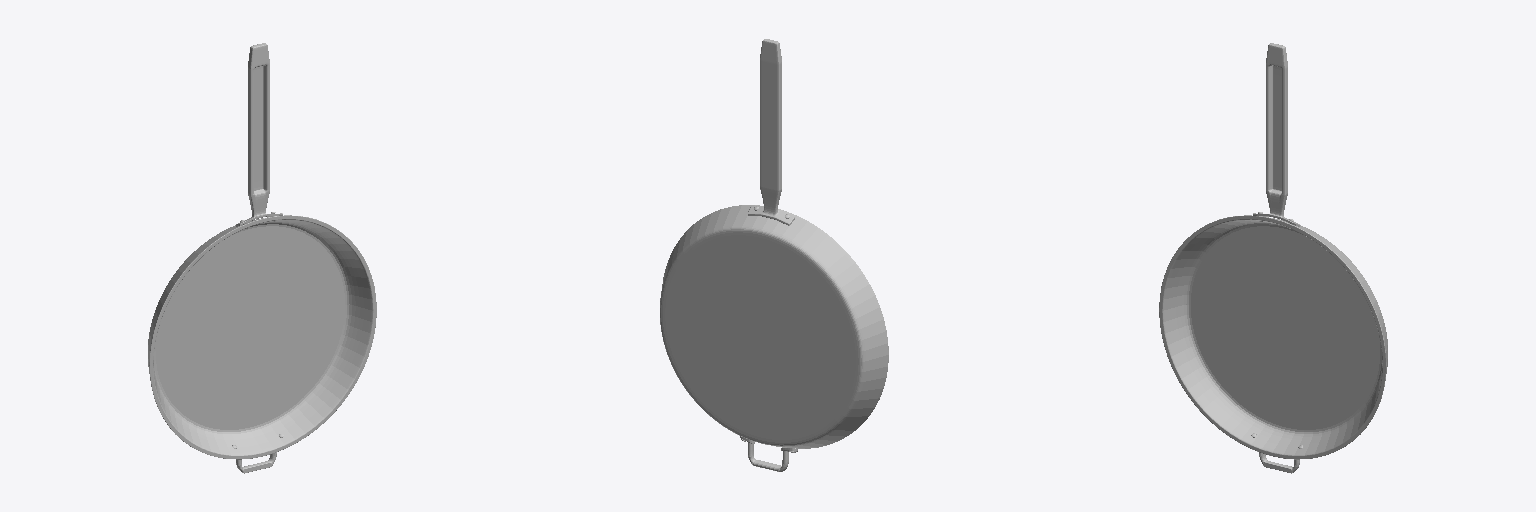
Rendered from pan.obj.
The picture shows the model from 3 angles: view 1: azimuth 30°, elevation 25°; view 2: azimuth 150°, elevation 25°; view 3: azimuth 330°, elevation 25°; orthographic projection.
Parts seen in each view (by area): view 1: 10262_12_Frying_Pan; view 2: 10262_12_Frying_Pan; view 3: 10262_12_Frying_Pan.
Part boxes in pixels (bbox=[...]): 10262_12_Frying_Pan: bbox=[148, 43, 376, 473]; 10262_12_Frying_Pan: bbox=[660, 39, 888, 471]; 10262_12_Frying_Pan: bbox=[1159, 43, 1387, 473].
Size of the model in its own units: 55.35 by 99.18 by 6.22.